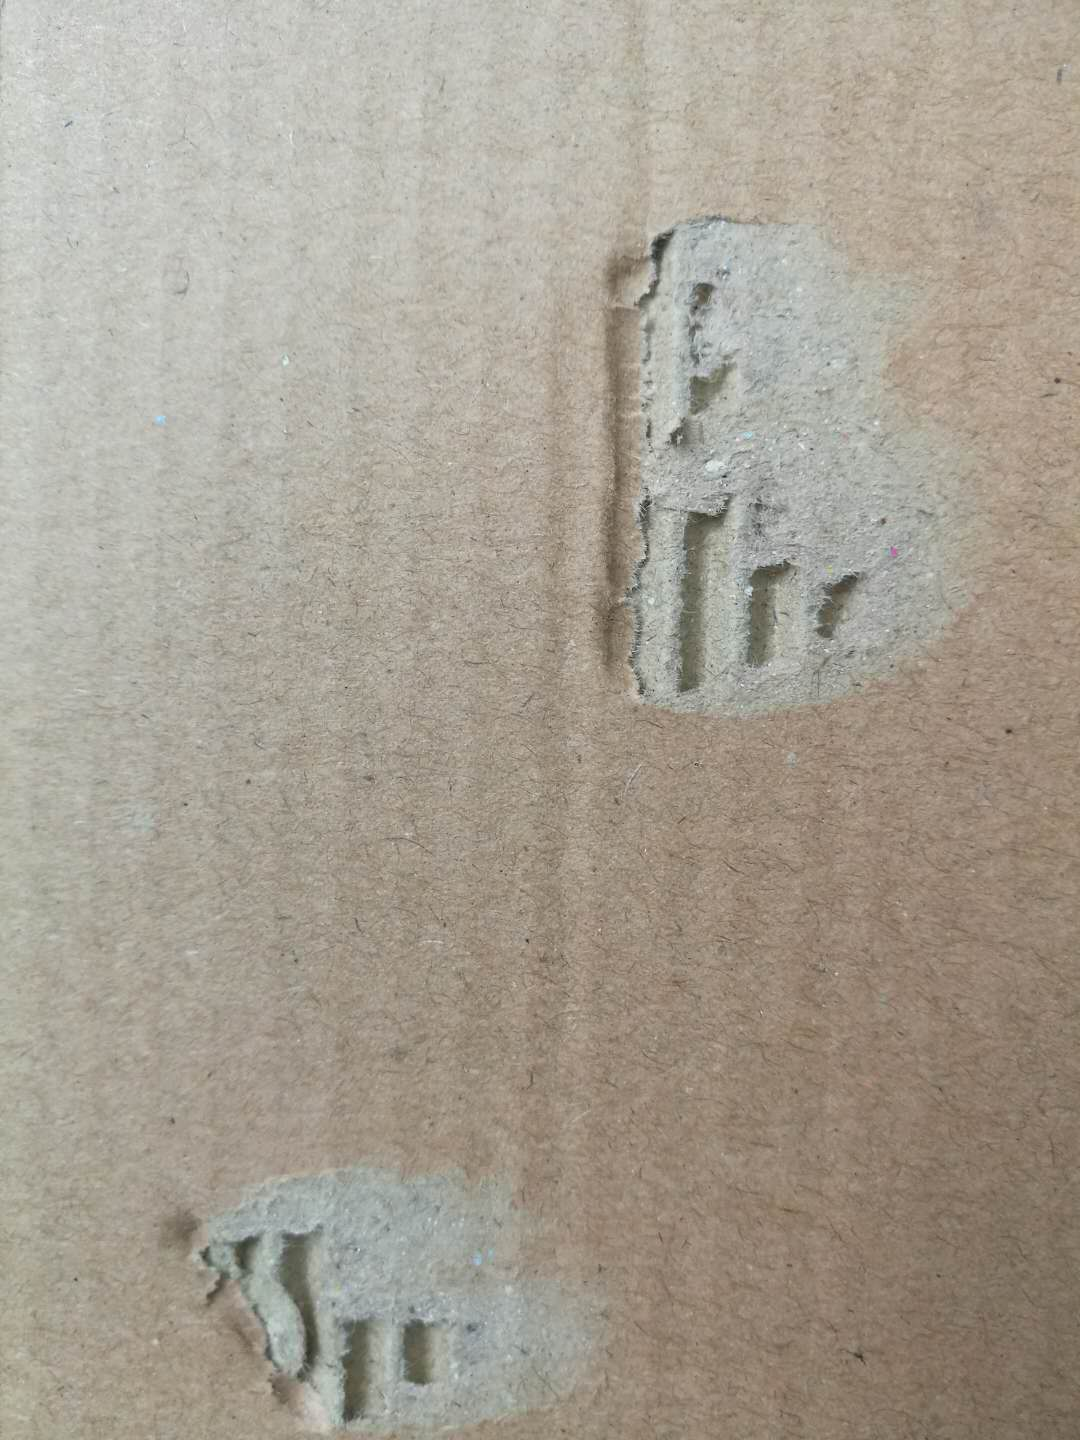defect: (520, 181, 1032, 762), (126, 1130, 680, 1438)
